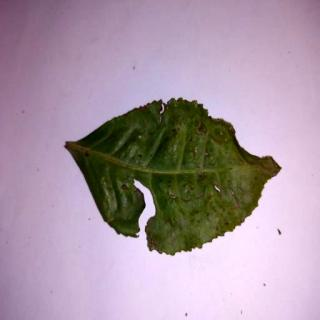Bird Eye Spot: (69, 100, 283, 259)
